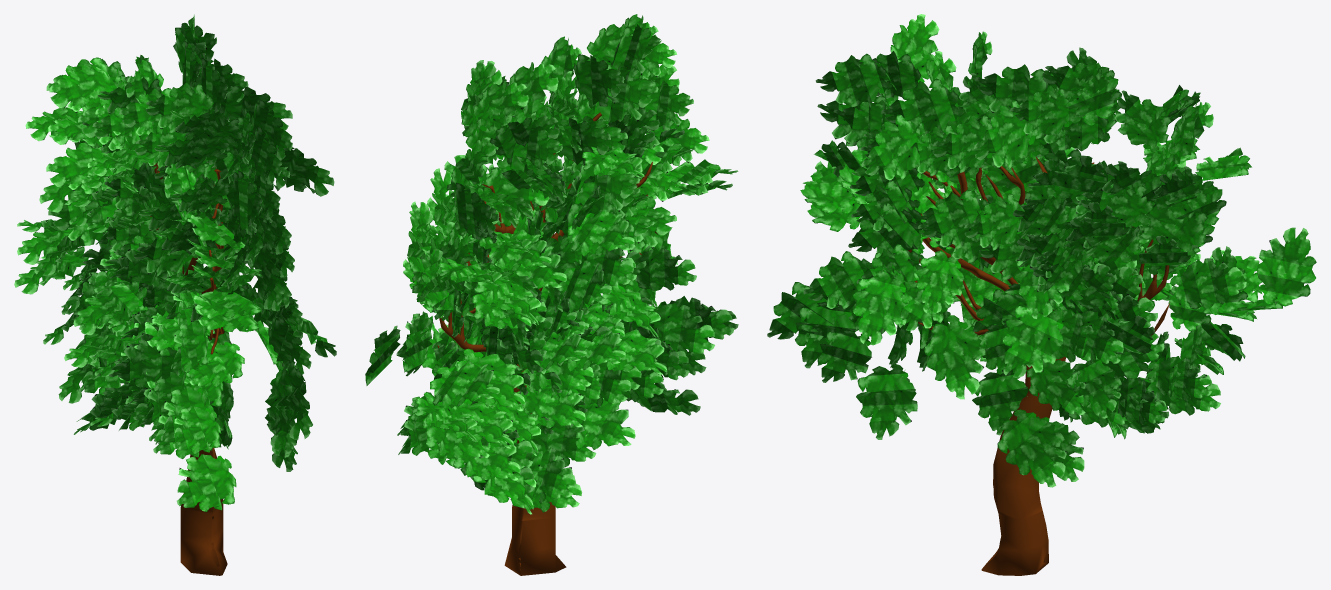
File: tree6.fbx
3 renders of one model, left to right at view 1: azimuth 30°, elevation 25°; view 2: azimuth 150°, elevation 25°; view 3: azimuth 270°, elevation 25°, orthographic. The views are drawn at different scales.
Visible parts, largest first — view 1: c090c787-1d18-485c-aed2-695b9deaaf12|d2bc2ccb-dd17-4b76-b26a (×82), c090c787-1d18-485c-aed2-695b9deaaf12; view 2: c090c787-1d18-485c-aed2-695b9deaaf12|d2bc2ccb-dd17-4b76-b26a (×91), c090c787-1d18-485c-aed2-695b9deaaf12; view 3: c090c787-1d18-485c-aed2-695b9deaaf12|d2bc2ccb-dd17-4b76-b26a (×82), c090c787-1d18-485c-aed2-695b9deaaf12.
Part boxes in pixels (box(x1,y1,x2,y2)): c090c787-1d18-485c-aed2-695b9deaaf12|d2bc2ccb-dd17-4b76-b26a (×82): box(14, 14, 336, 511); c090c787-1d18-485c-aed2-695b9deaaf12: box(150, 162, 227, 575); c090c787-1d18-485c-aed2-695b9deaaf12|d2bc2ccb-dd17-4b76-b26a (×91): box(365, 24, 738, 514); c090c787-1d18-485c-aed2-695b9deaaf12: box(437, 112, 657, 575); c090c787-1d18-485c-aed2-695b9deaaf12|d2bc2ccb-dd17-4b76-b26a (×82): box(767, 14, 1316, 487); c090c787-1d18-485c-aed2-695b9deaaf12: box(908, 157, 1169, 575).
Bounding box in the file's own units: 44.73 × 111 × 104.
2 materials, 2 textured.
